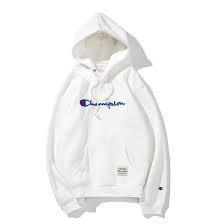sweater: (43, 9, 181, 218)
